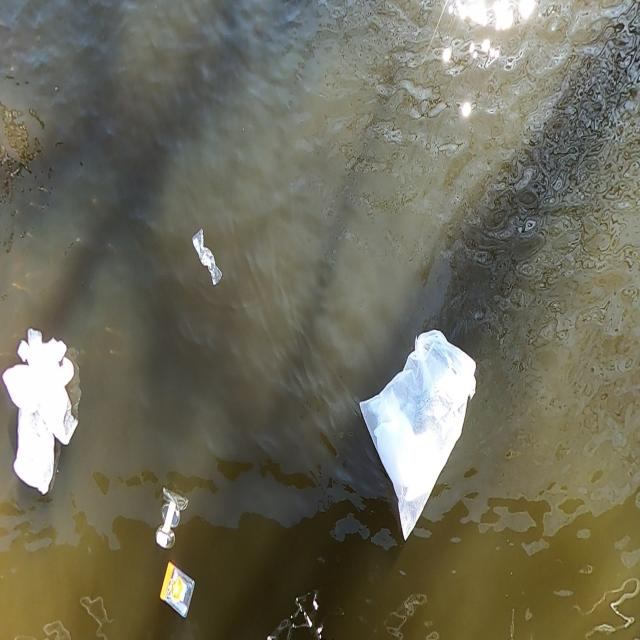Sac plastique: (356, 331, 497, 545)
